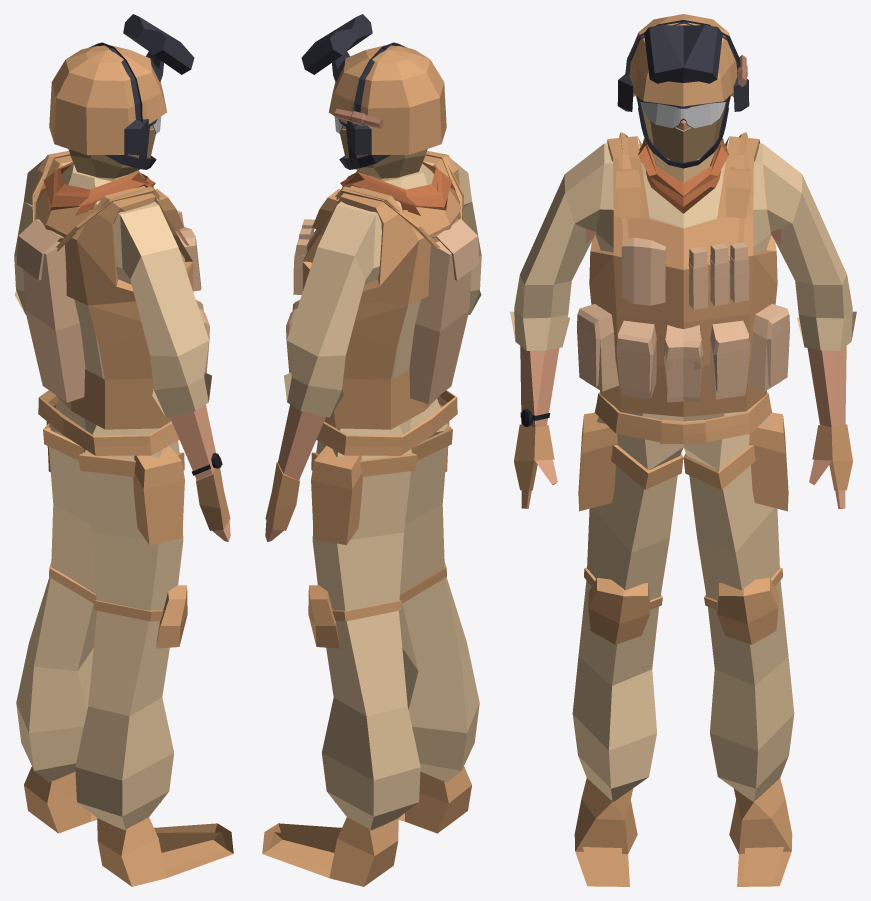
The model's file is scene_v6ISjii1jN.glb.
3 renders of one model, left to right at view 1: azimuth 30°, elevation 25°; view 2: azimuth 150°, elevation 25°; view 3: azimuth 270°, elevation 25°, orthographic. The views are drawn at different scales.
Parts seen in each view (by area): view 1: my dude; view 2: my dude; view 3: my dude.
Boxes of the visible parts, x1=… form: my dude: x1=14, y1=14, x2=233, y2=886; my dude: x1=262, y1=14, x2=481, y2=886; my dude: x1=510, y1=14, x2=856, y2=886.
Bounding box in the file's own units: 1.13 × 5.16 × 1.92.
